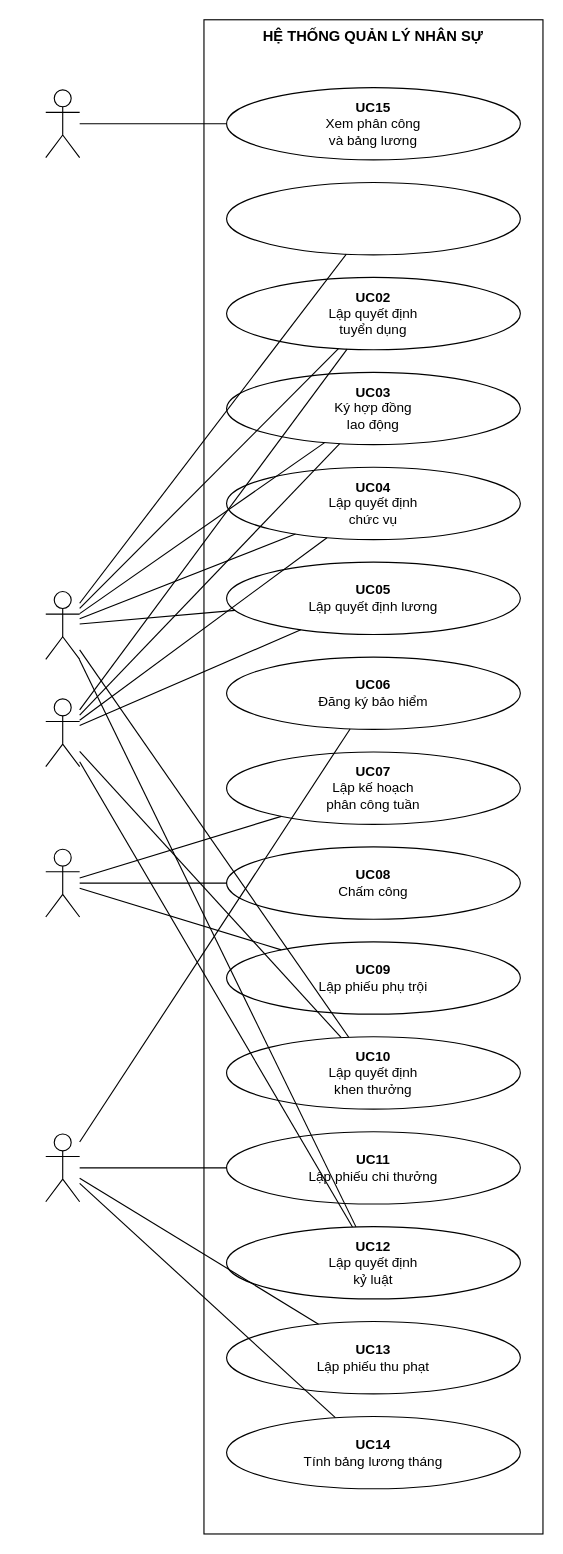
Some shapes in this 563 by 1554 pixel diagram are drawn without their labels. Each missing label, with the centre of its shape:
"Giám đốc" goes at point (62, 732).
"Kế toán" goes at point (62, 1167).
"Nhân sự" goes at point (62, 624).
"Nhân viên" goes at point (62, 123).
"Trưởng phòng" goes at point (62, 882).
"UC01 Quản lý phòng ban, nhân viên, chức vụ" goes at point (372, 218).
